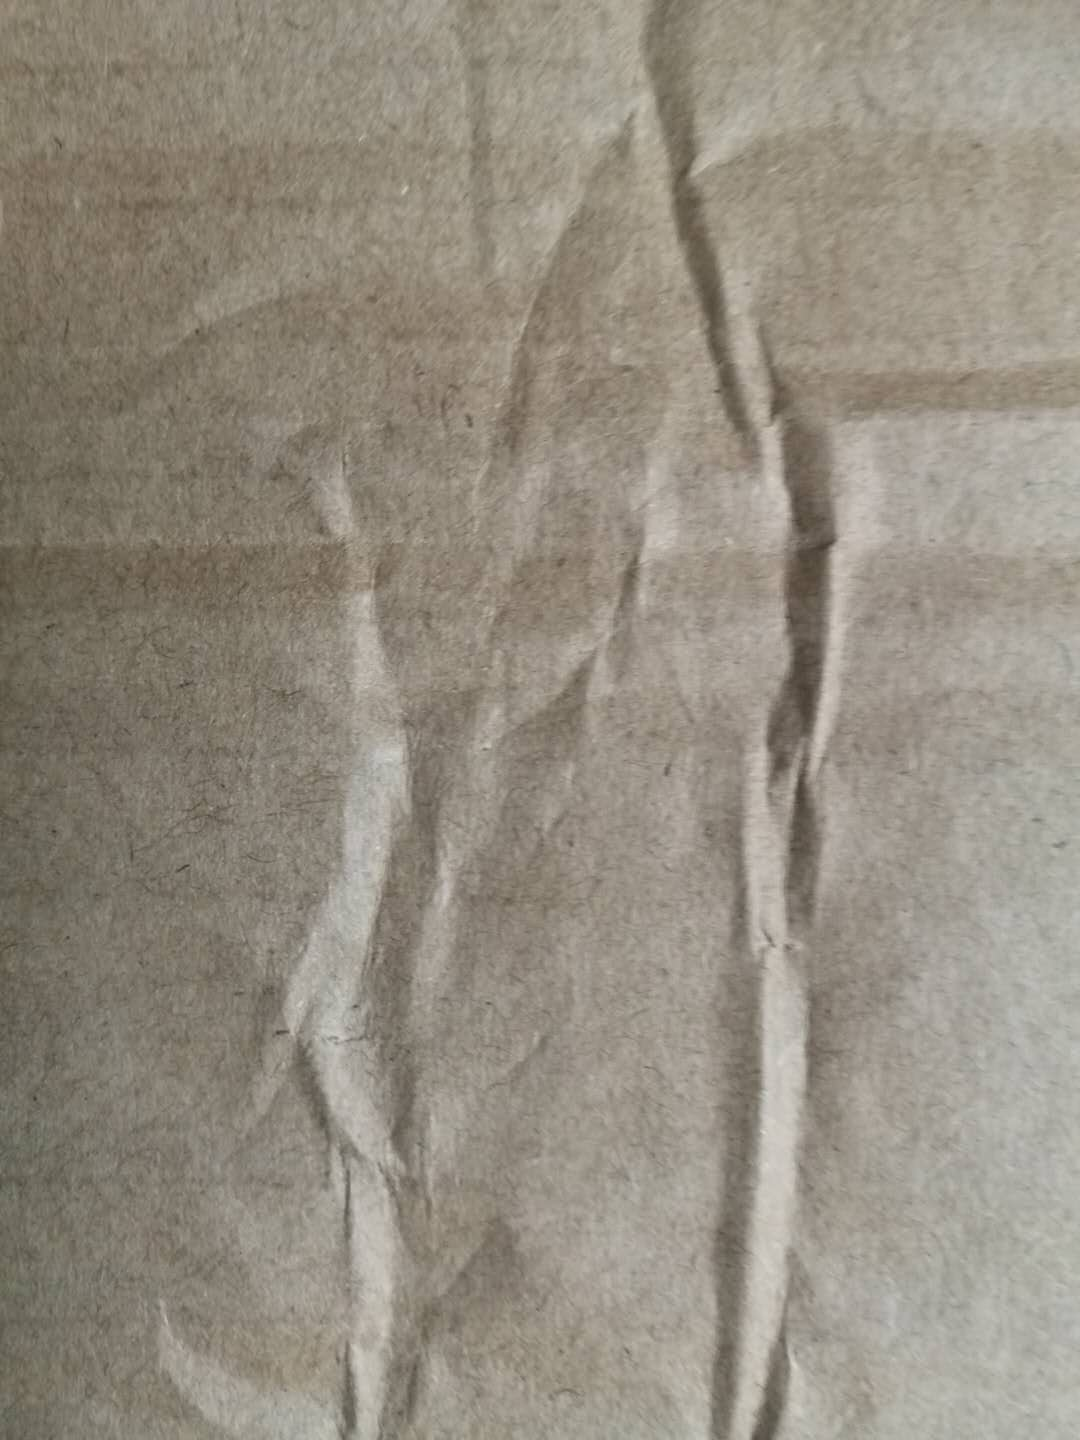defect: (3, 8, 1080, 1433)
